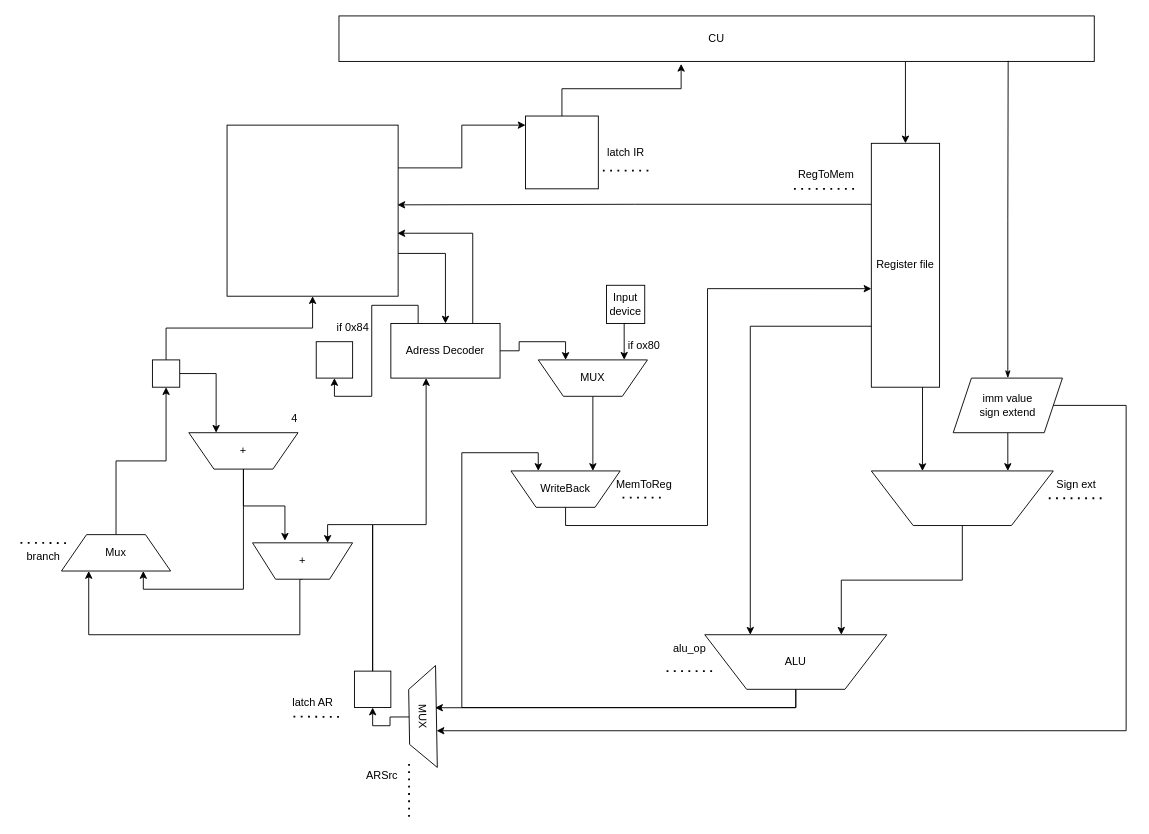
This 1149x834 diagram has some shape labels left out. Here are the shapes that lost their labels. From the top down, the centre of each, then its label:
the point at 561,152: IR
the point at 312,210: Memory
the point at 166,373: pc
the point at 334,359: Output device
the point at 961,498: ALUSrc
the point at 372,689: AR
